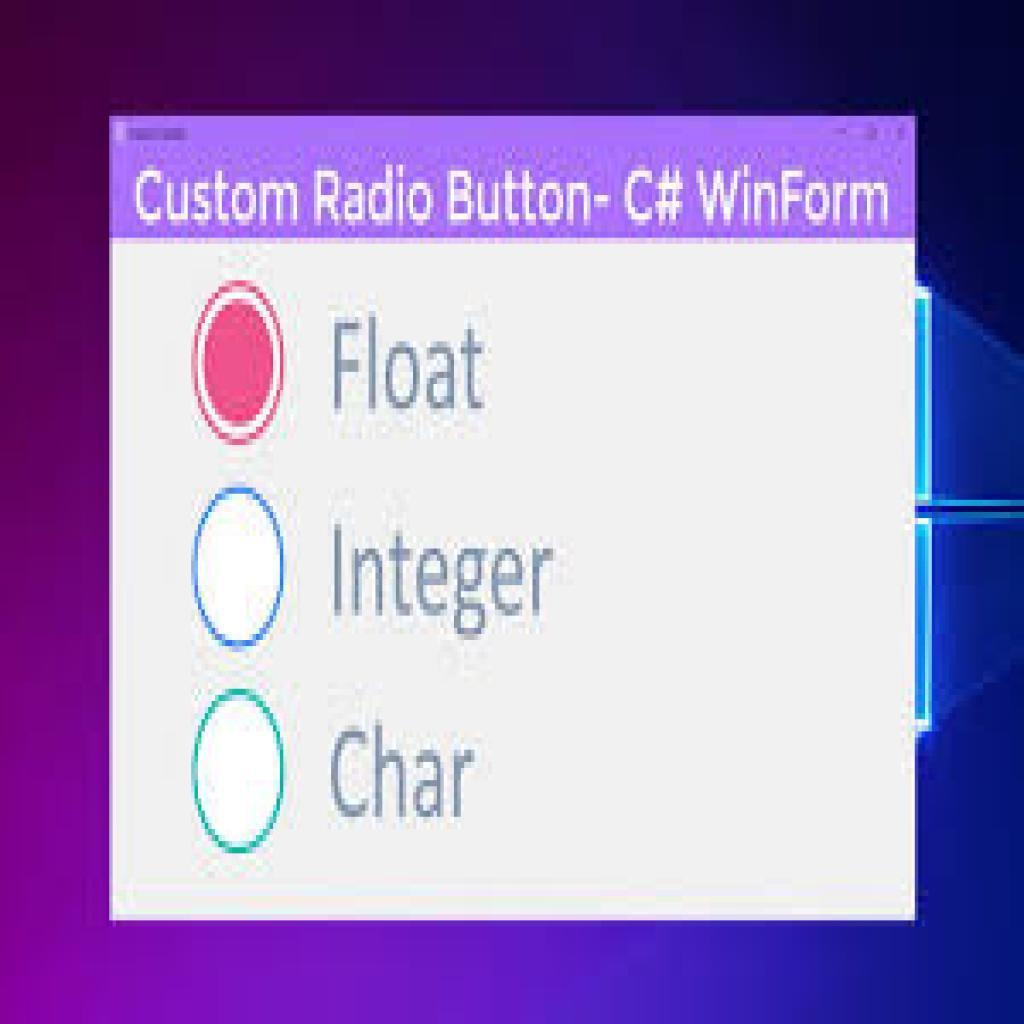label: (327, 518, 566, 633), (328, 310, 498, 422), (330, 712, 486, 828)
radio: (190, 484, 288, 662), (187, 686, 289, 856), (193, 281, 291, 449)
